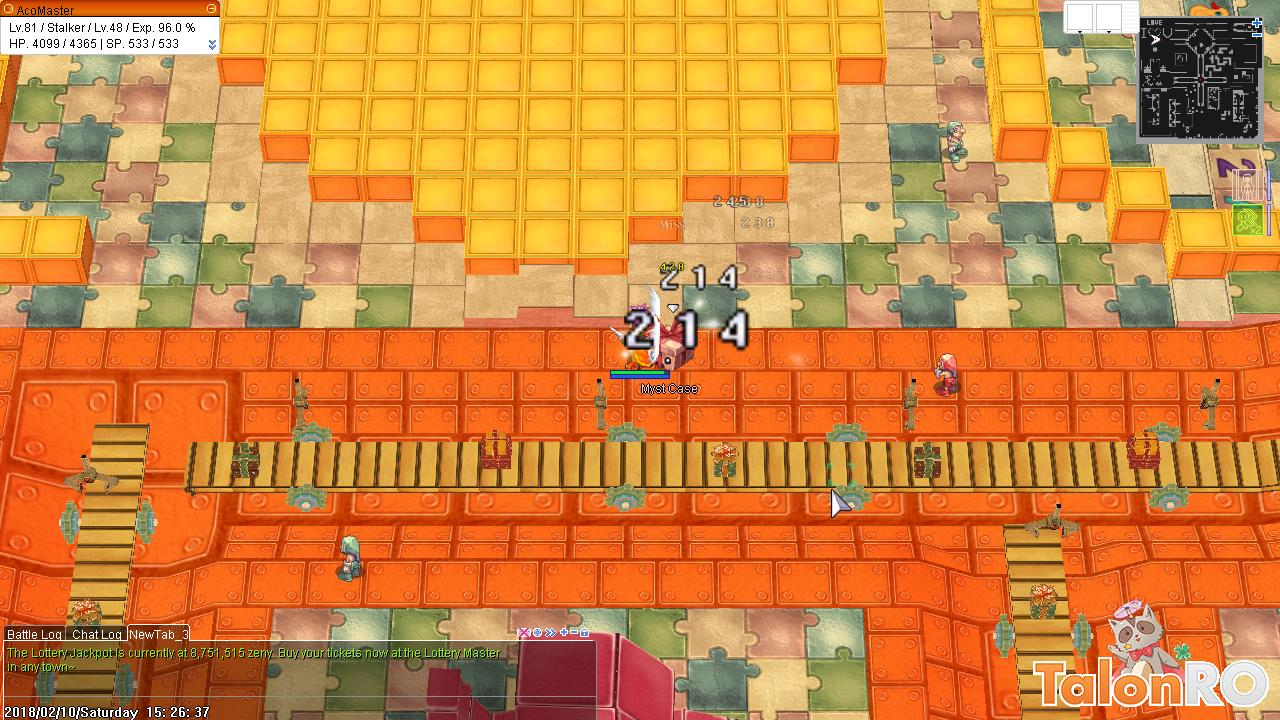myst_case: (650, 316, 697, 371)
